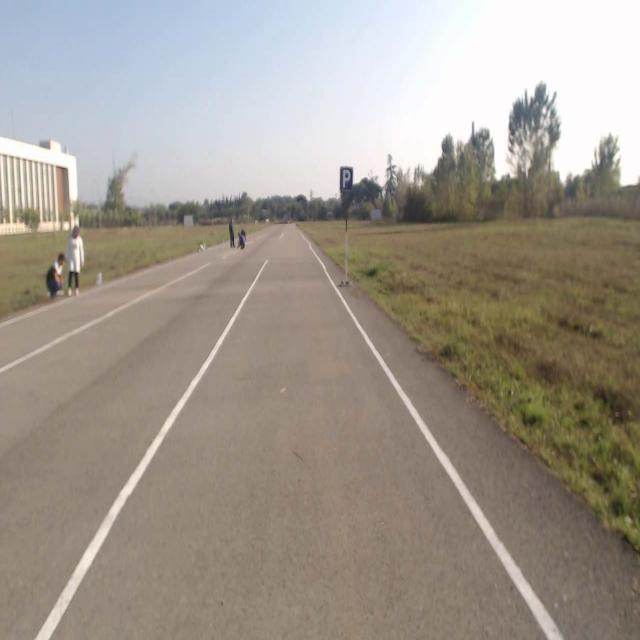park: (340, 165, 352, 191)
